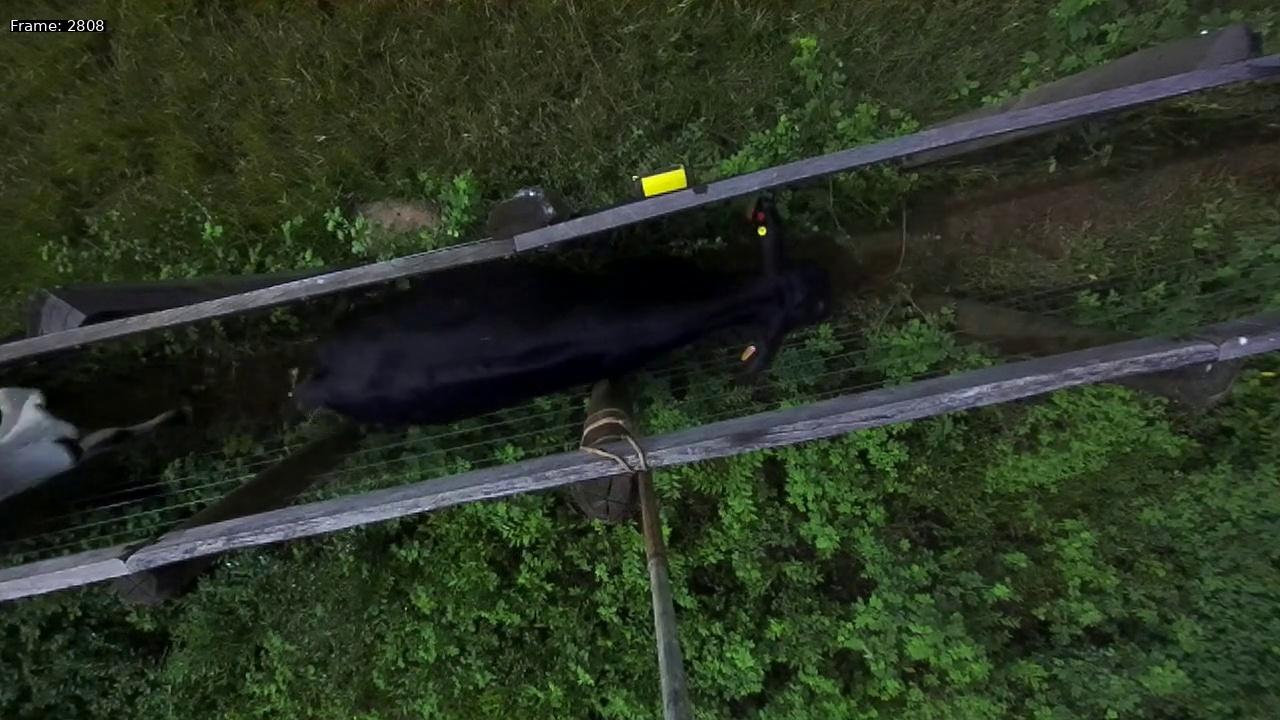cattle: (280, 185, 825, 442)
